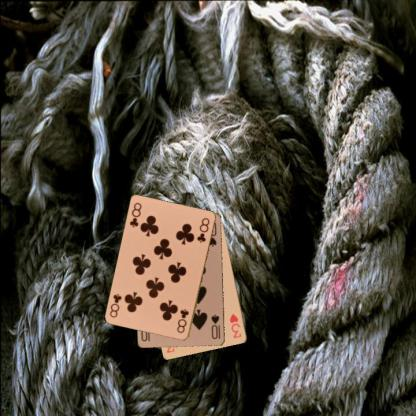10s: (209, 312, 221, 340)
3h: (227, 311, 243, 340)
8c: (127, 200, 143, 229), (175, 306, 190, 335)
